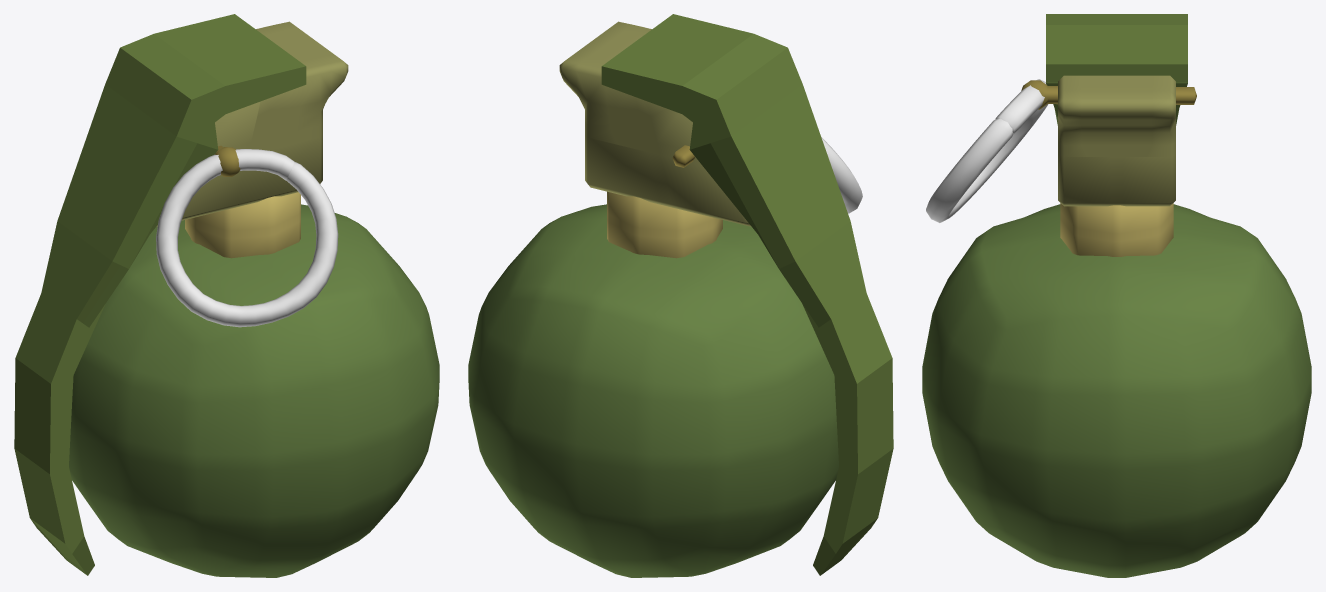
File: Bomp.fbx
The picture shows the model from 3 angles, left to right: view 1: azimuth 30°, elevation 25°; view 2: azimuth 150°, elevation 25°; view 3: azimuth 270°, elevation 25°; orthographic projection.
Visible parts, largest first — view 1: Bomtrang2; view 2: Bomtrang2; view 3: Bomtrang2.
Boxes of the visible parts, x1,y1,x2,y2 form: Bomtrang2: [14, 14, 439, 577]; Bomtrang2: [468, 14, 893, 577]; Bomtrang2: [922, 14, 1311, 577].
Size of the model in its own units: 15.37 by 19.88 by 13.76.
